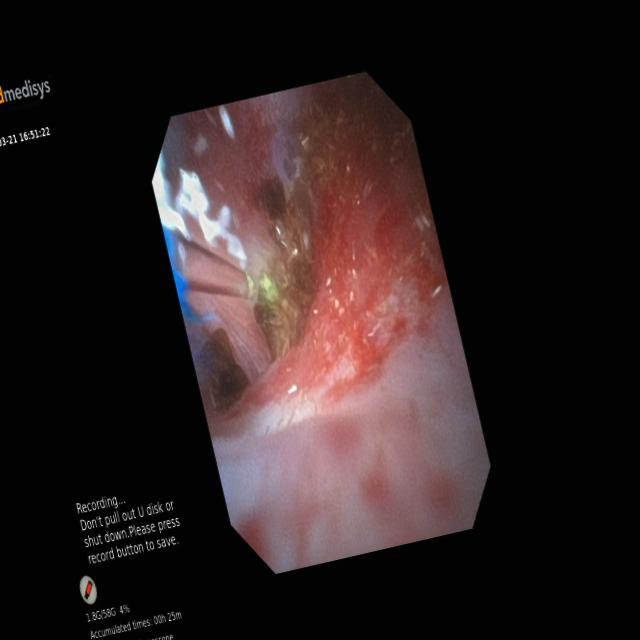laser-fibre: (181, 241, 251, 298)
laser_dot: (259, 272, 273, 291)
stone-new: (253, 176, 313, 359), (199, 328, 250, 410)
